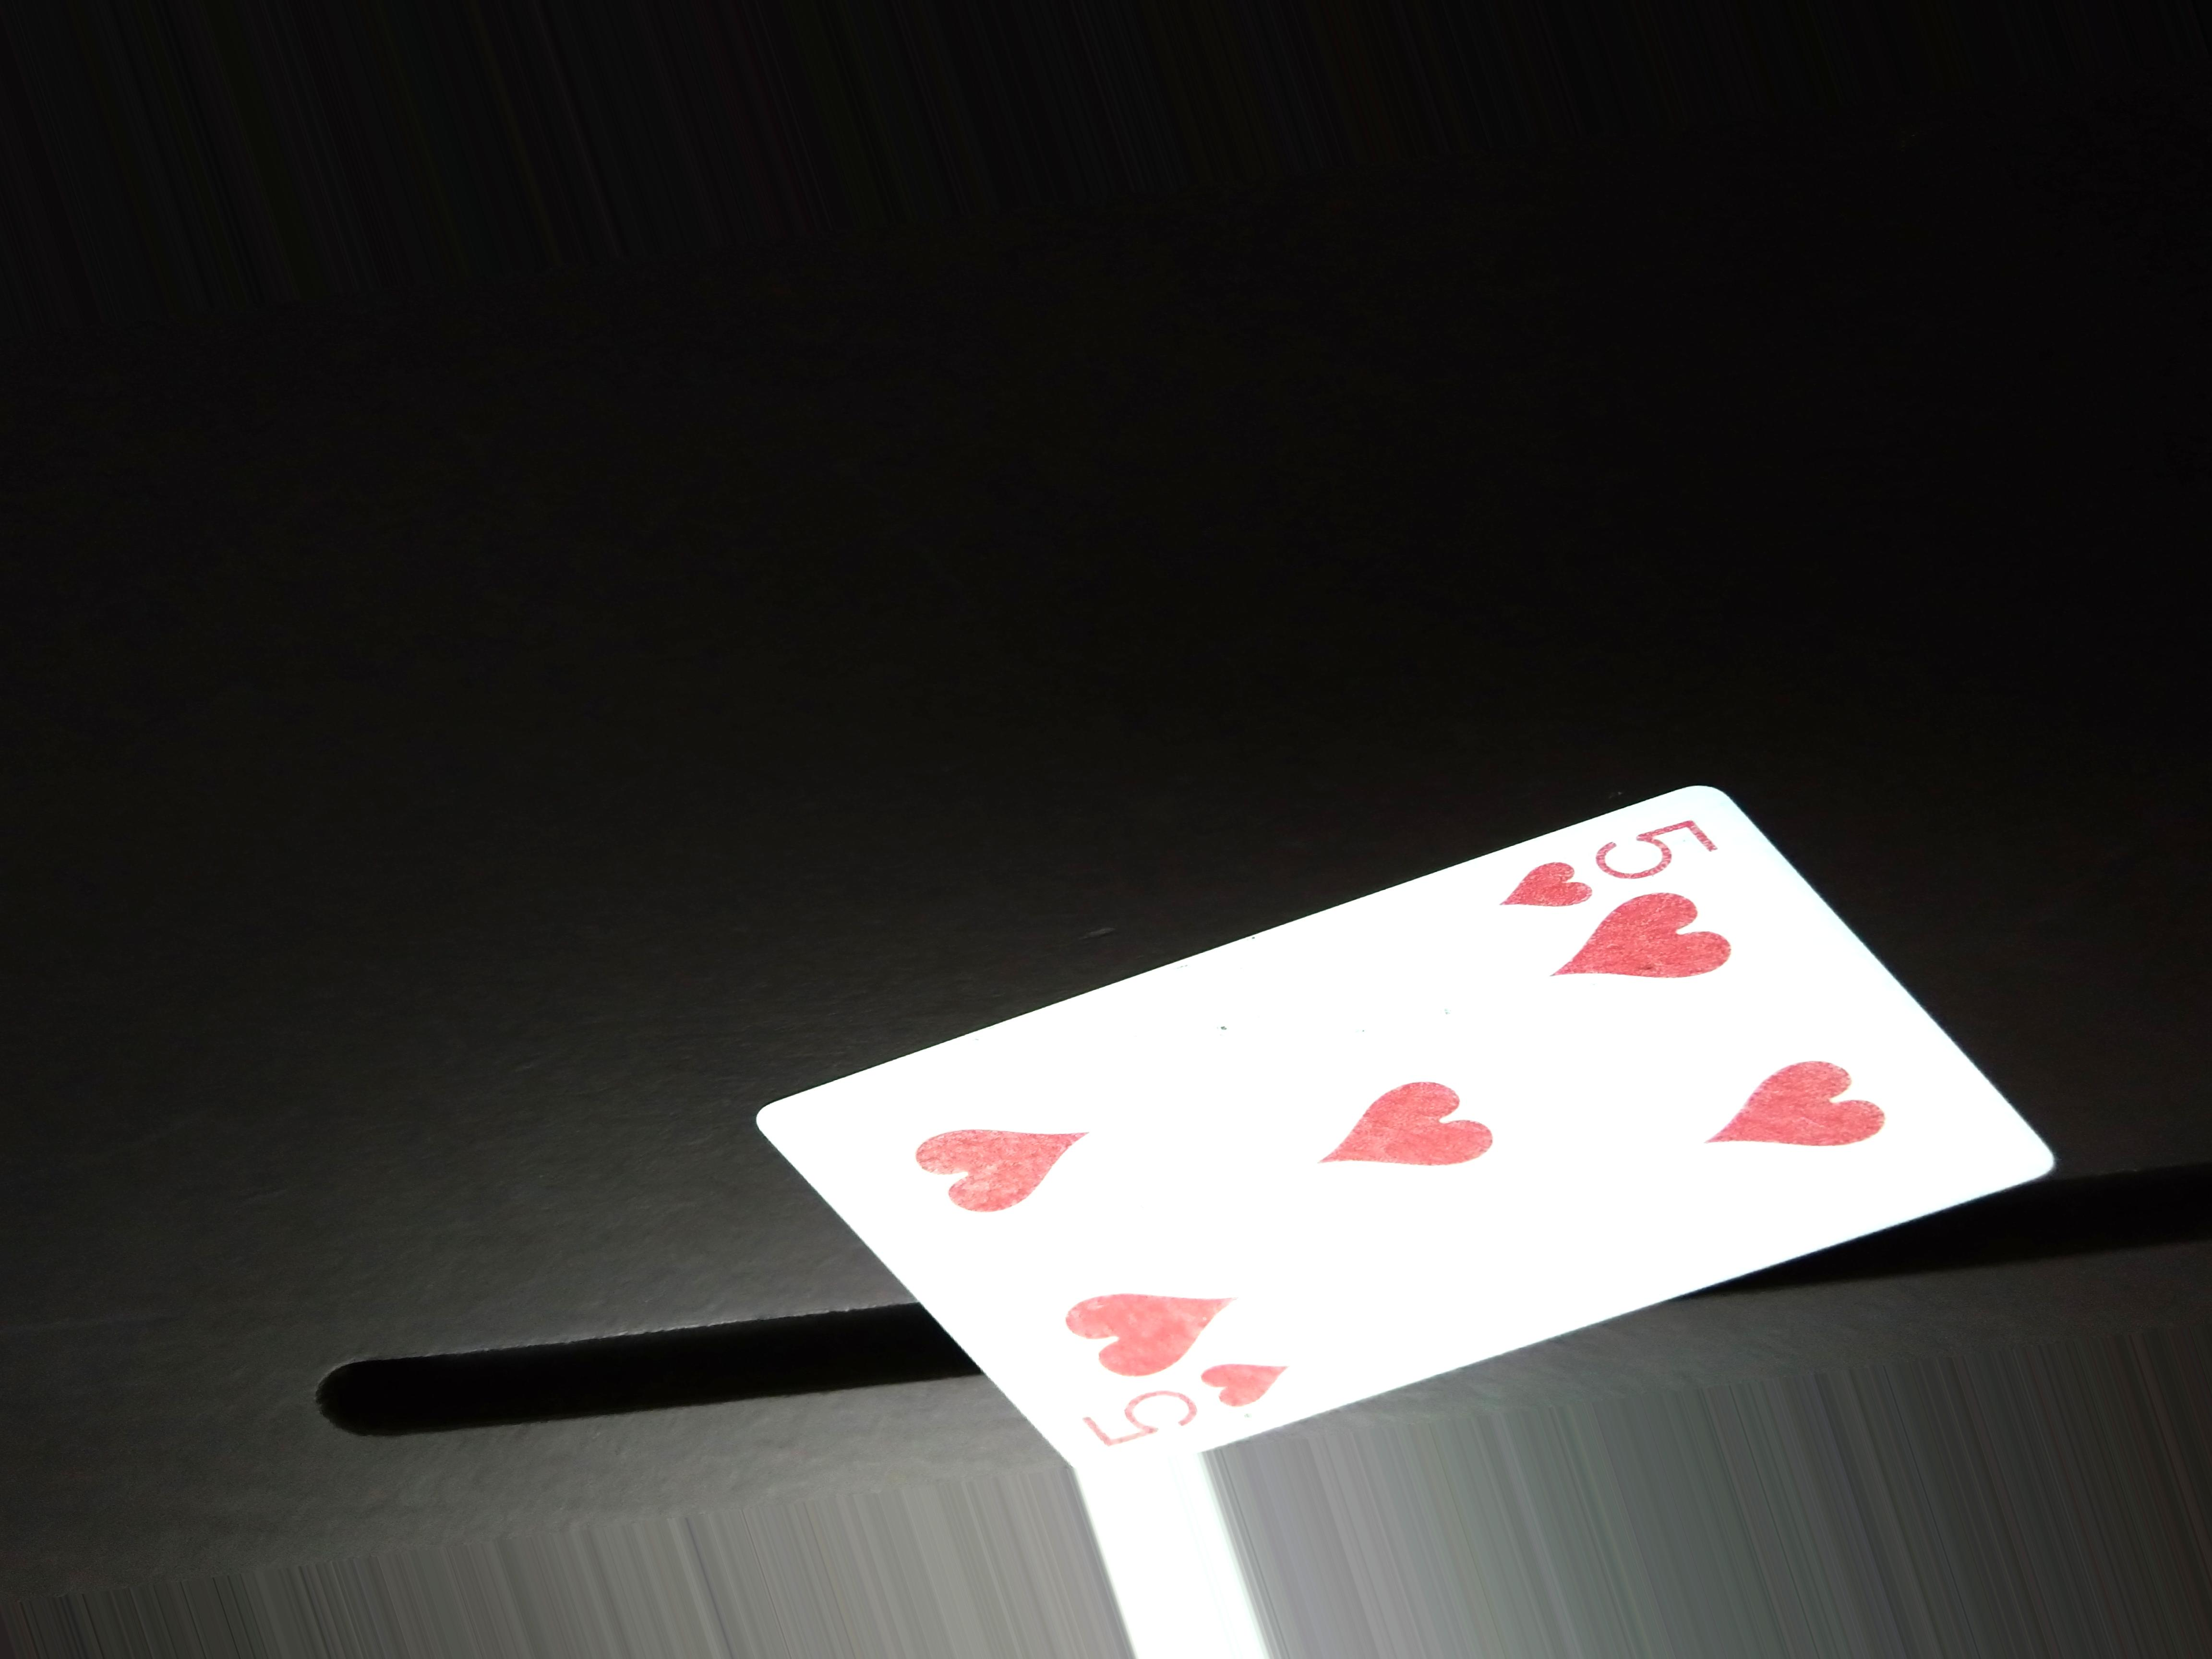5H: (1090, 1354, 1303, 1467)
